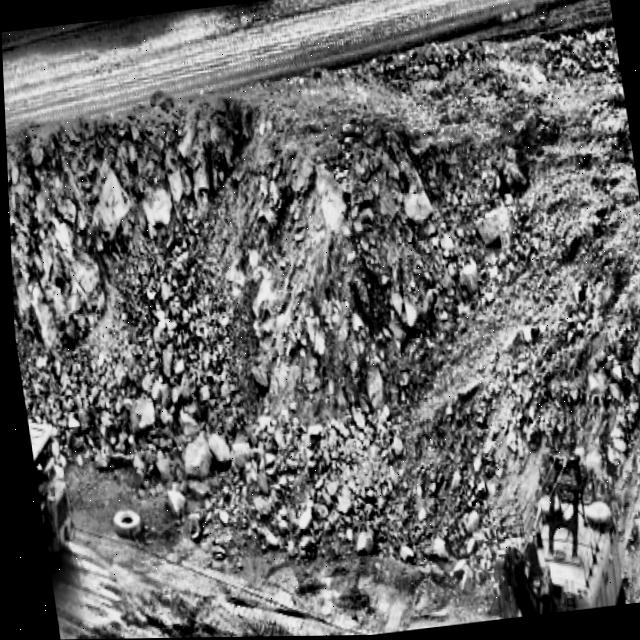dump_truck: (16, 368, 83, 580)
excavator: (426, 432, 632, 626)
